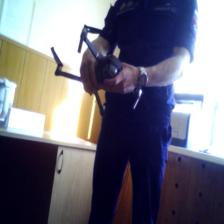drone: (46, 20, 153, 122)
